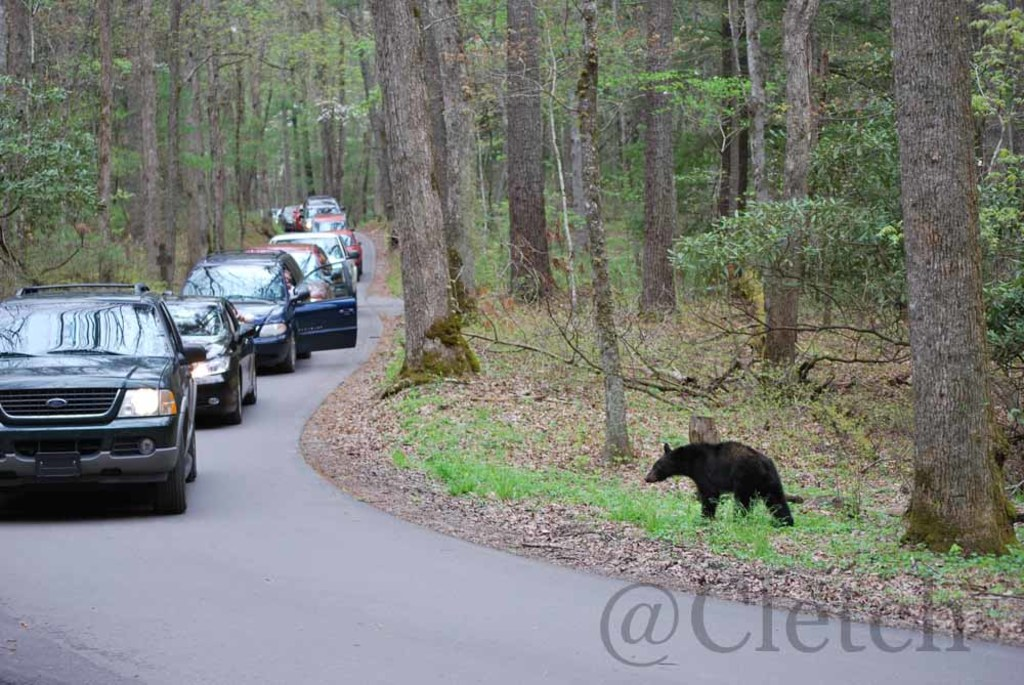Car: (0, 188, 368, 507)
